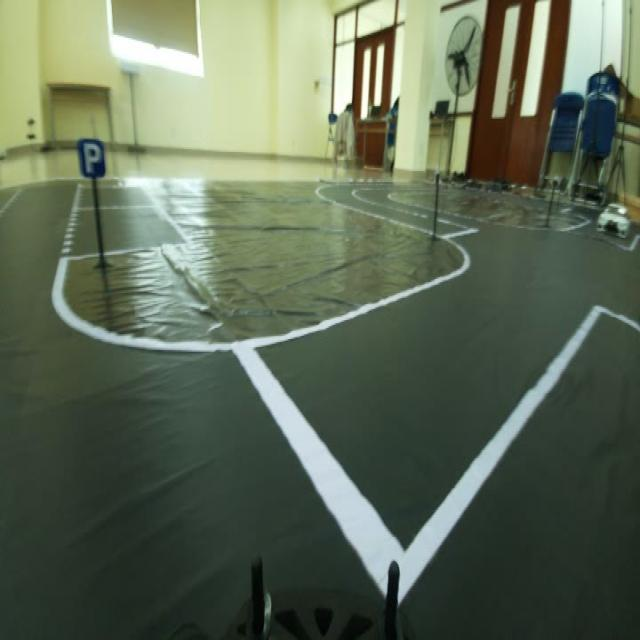parking: (69, 125, 111, 185)
